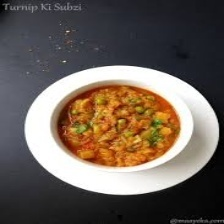sabzi: (53, 81, 182, 169)
